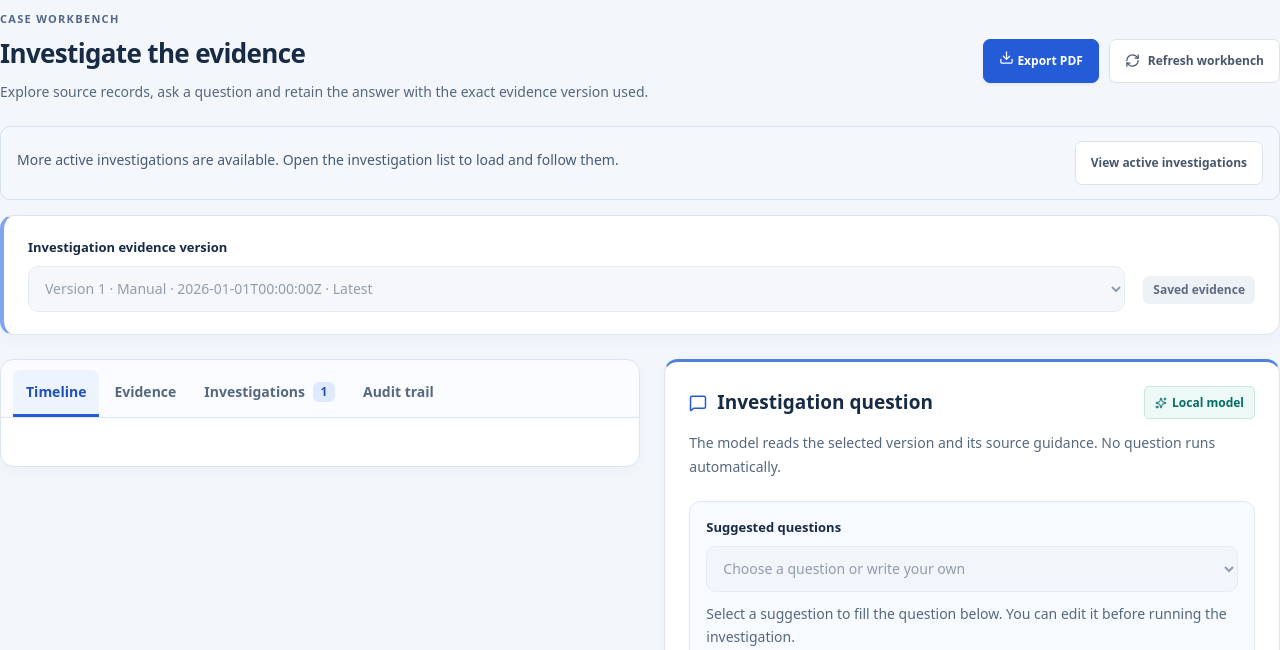
Scenario: shows active-history continuation outside the list and opens it on request
Click the button "View active investigations".
click(1169, 163)  # box [1075,141,1263,185]
(page scrolled)
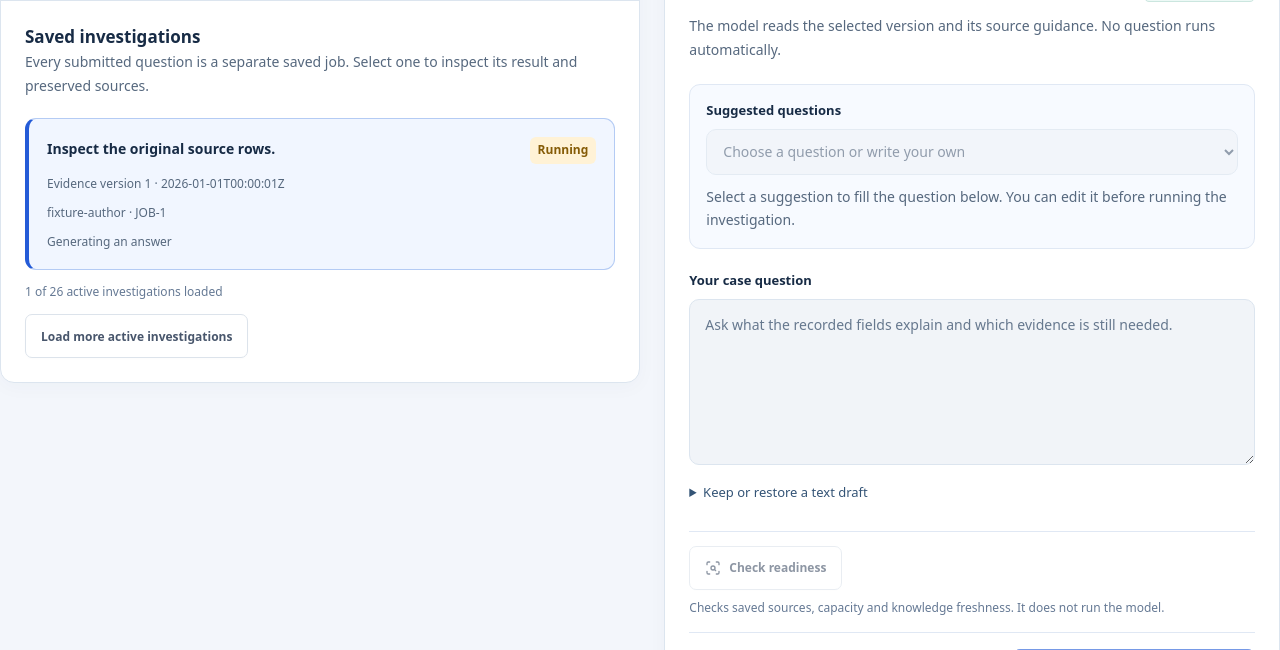
expect the heading "Saved investigations" is shown: met, box [25,26,200,48]
expect the button "Load more active investigations" is shown: met, box [25,314,248,358]
